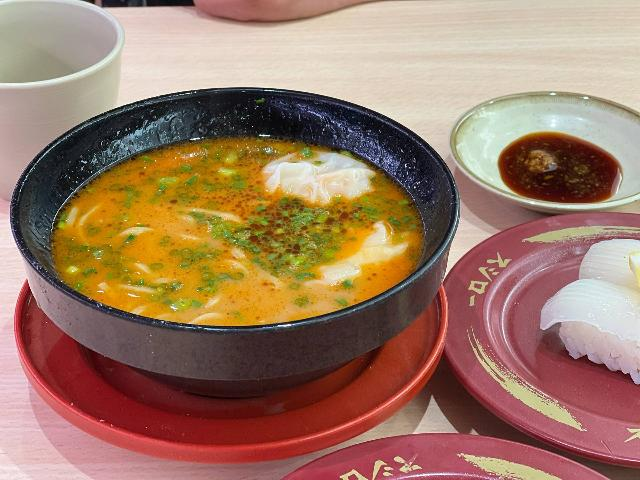janred: (0, 243, 441, 450), (442, 221, 640, 438), (273, 443, 640, 480)
